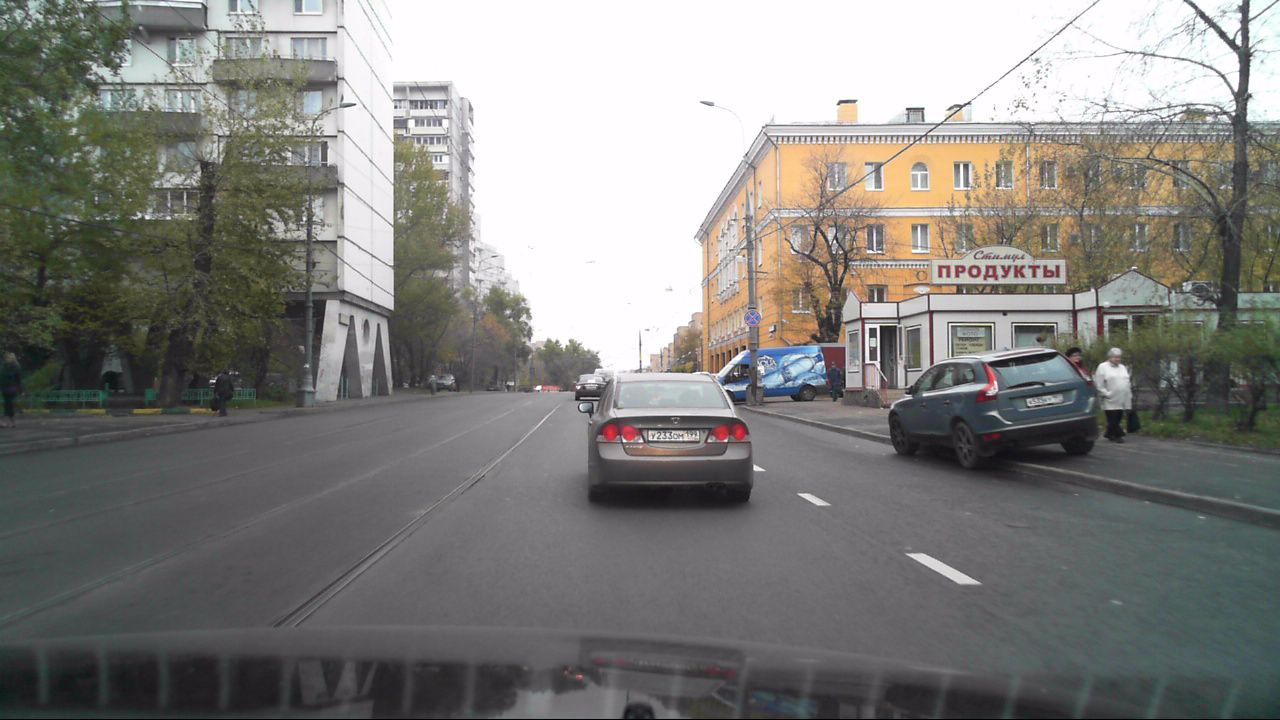No Parking: (744, 309, 761, 326)
